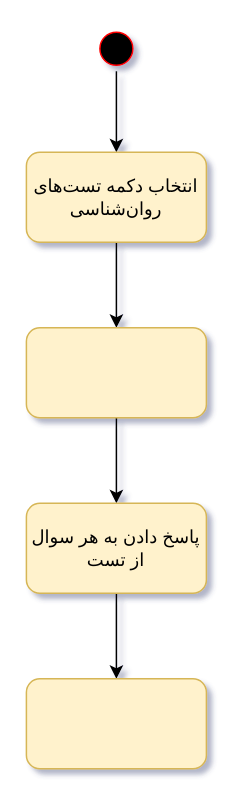
This 242x804 diagram has some shape labels left out. Each missing label, with the centre of its shape:
"اتمام تست" belongs at [115,723].
"انتخاب موضوع تست از بین گزینه‌های موجود" belongs at [115,372].
